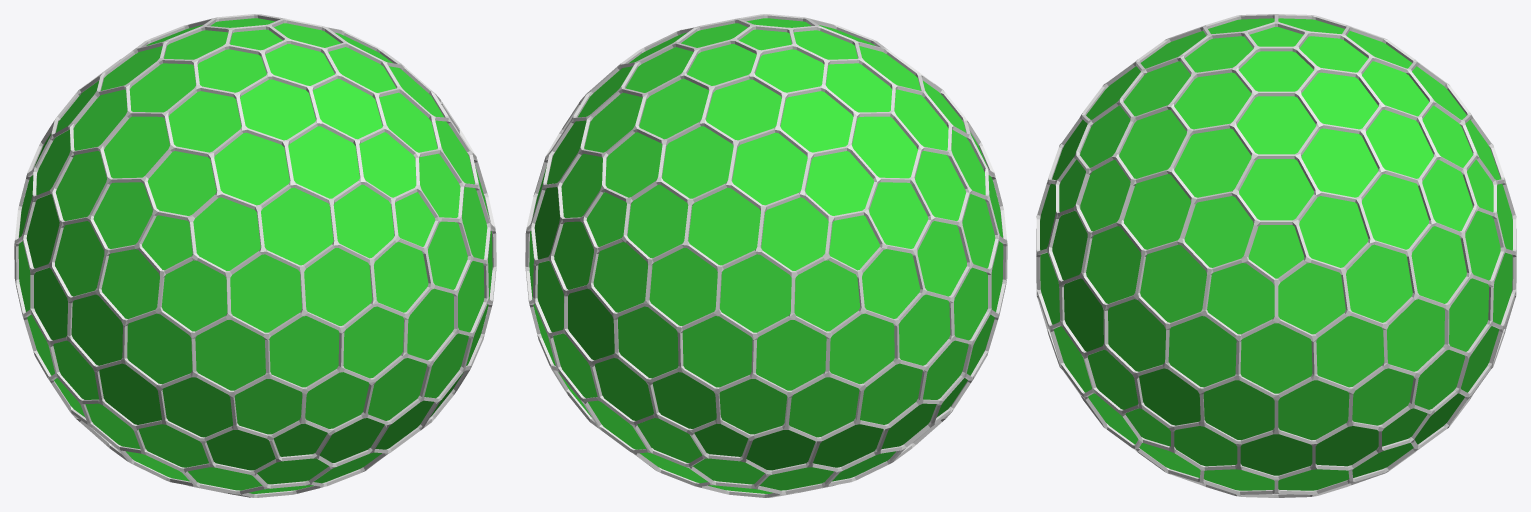
File: Defence.fbx
3 renders of one model, left to right at view 1: azimuth 30°, elevation 25°; view 2: azimuth 150°, elevation 25°; view 3: azimuth 270°, elevation 25°, orthographic.
Visible parts, largest first — view 1: Icosphere, Icosphere.001; view 2: Icosphere, Icosphere.001; view 3: Icosphere, Icosphere.001.
Part boxes in pixels (box(x1,y1,x2,y2)): Icosphere: box(18, 18, 492, 493); Icosphere.001: box(14, 14, 496, 497); Icosphere: box(529, 18, 1003, 493); Icosphere.001: box(525, 14, 1007, 497); Icosphere: box(1040, 18, 1512, 490); Icosphere.001: box(1036, 14, 1516, 497).
Bounding box in the file's own units: 197 × 198 × 196.
